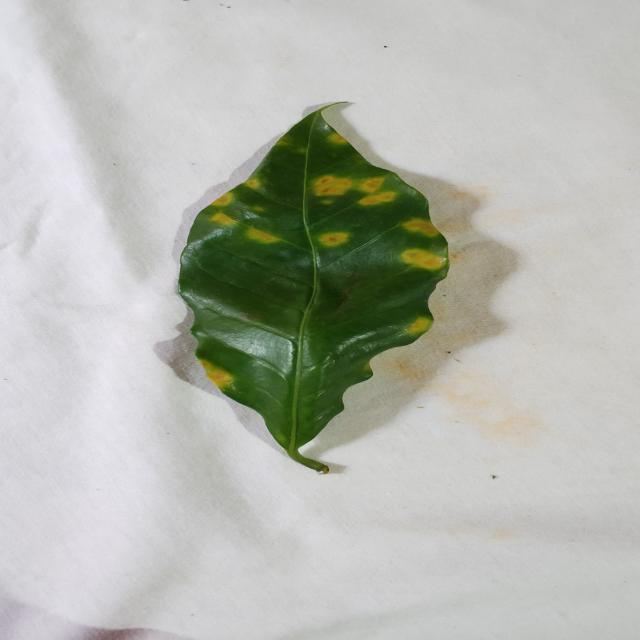Enfermedad-Roya: (176, 104, 451, 474)
